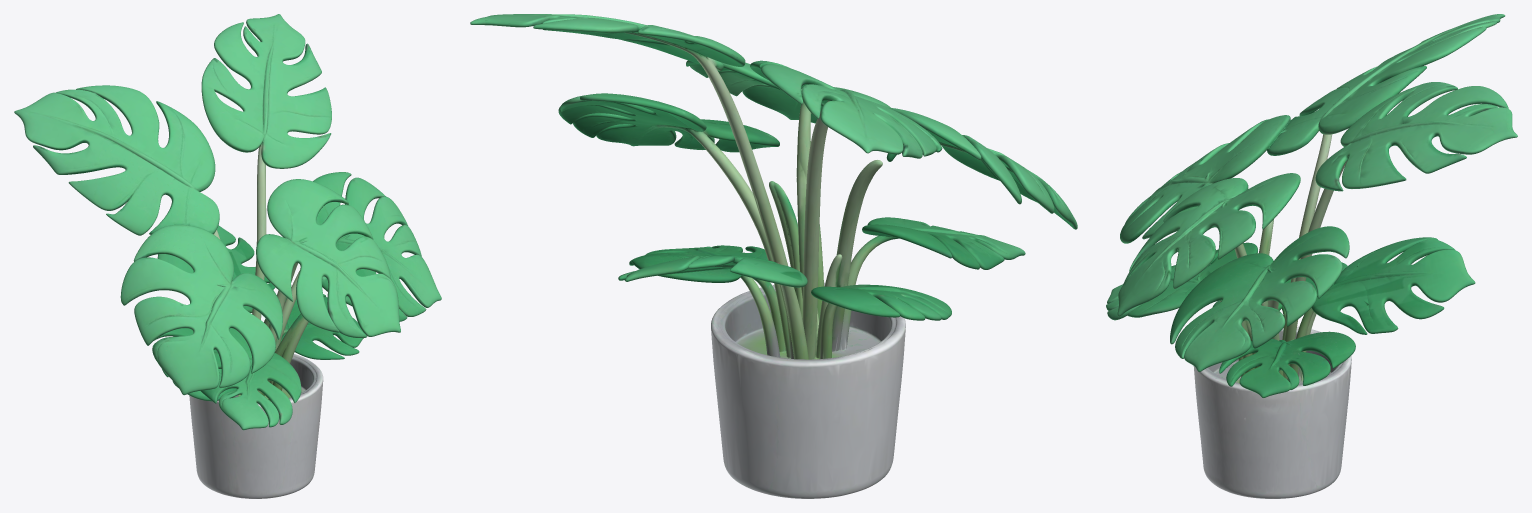
File: monstera.glb
3 views of the same model, side by side, from view 1: azimuth 30°, elevation 25°; view 2: azimuth 150°, elevation 25°; view 3: azimuth 270°, elevation 25° (orthographic). The views are drawn at different scales.
Parts seen in each view (by area): view 1: node_0; view 2: node_0; view 3: node_0.
Boxes of the visible parts, x1=… form: node_0: x1=14, y1=14, x2=441, y2=498; node_0: x1=470, y1=14, x2=1077, y2=498; node_0: x1=1106, y1=14, x2=1517, y2=498.
Size of the model in its own units: 0.7177 by 0.8054 by 0.7203.
1 material, 1 textured.
